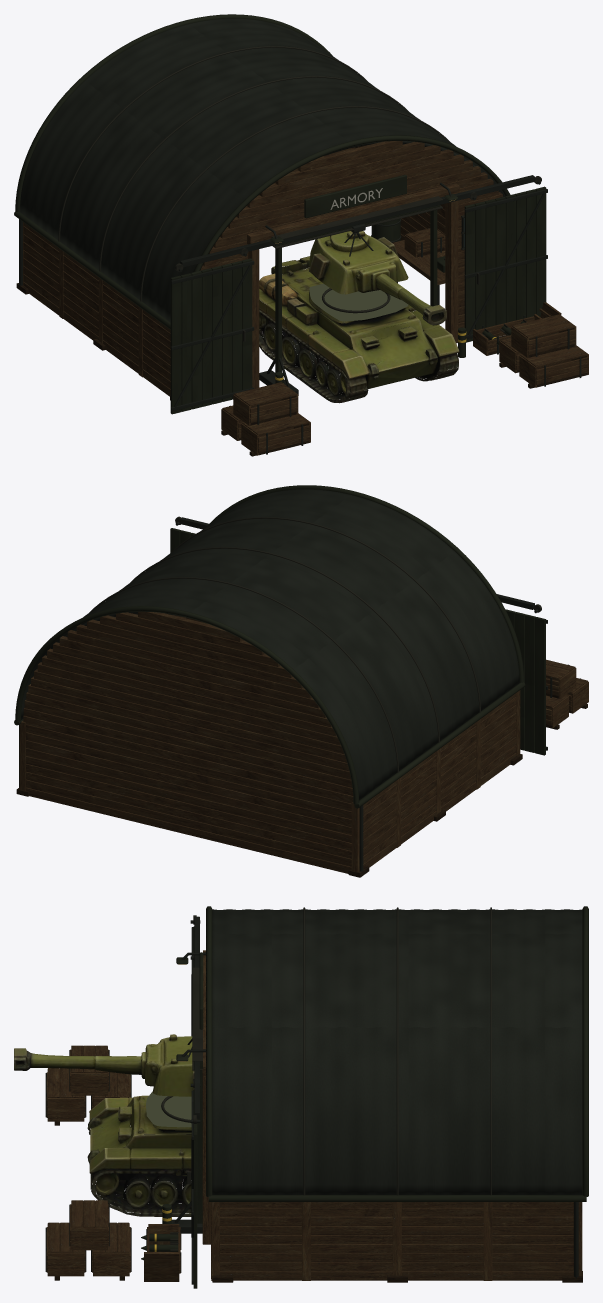
File: armory.glb
The picture shows the model from 3 angles, top to bottom: view 1: azimuth 30°, elevation 25°; view 2: azimuth 150°, elevation 25°; view 3: azimuth 270°, elevation 25°; orthographic projection. The views are drawn at different scales.
Visible parts, largest first — view 1: Armory Weathered roof covering; view 2: Armory Weathered roof covering; view 3: Armory Weathered roof covering.
Part boxes in pixels (bbox=[...]): Armory Weathered roof covering: bbox=[14, 14, 588, 456]; Armory Weathered roof covering: bbox=[14, 485, 588, 877]; Armory Weathered roof covering: bbox=[14, 906, 588, 1288].
Size of the model in its own units: 1.72 by 0.9831 by 2.
Materials: 16 (9 with a texture image).
